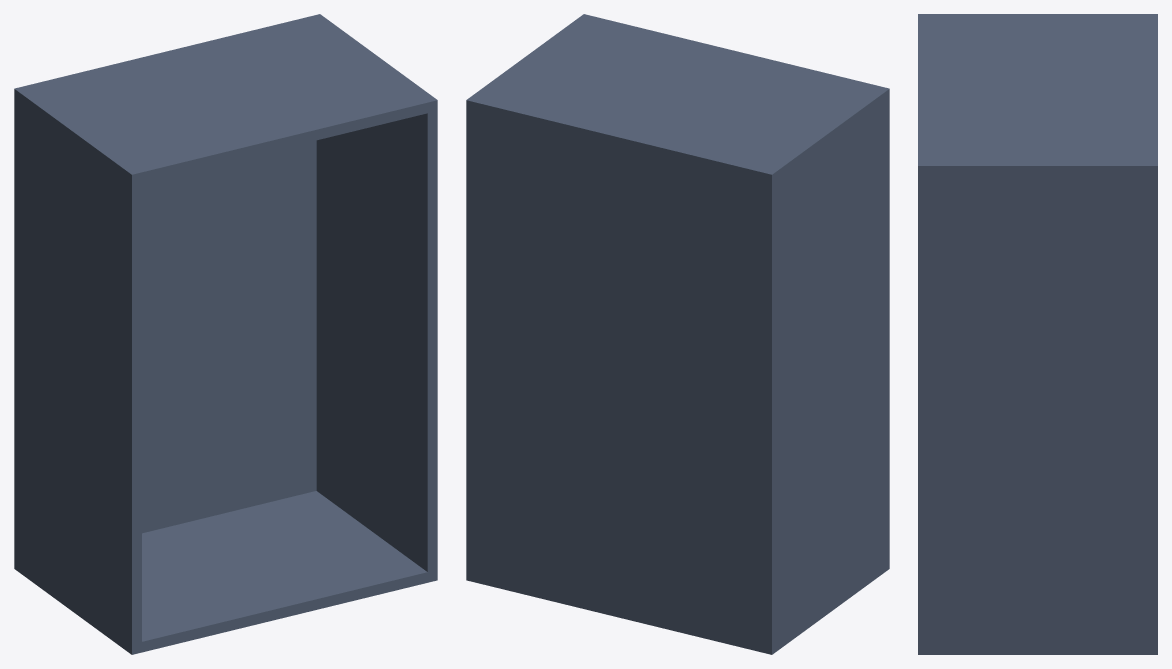
File: Kitchen1_C4_07.fbx
The picture shows the model from 3 angles, left to right: view 1: azimuth 30°, elevation 25°; view 2: azimuth 150°, elevation 25°; view 3: azimuth 270°, elevation 25°; orthographic projection.
Visible parts, largest first — view 1: Kitchen1_C4_07; view 2: Kitchen1_C4_07; view 3: Kitchen1_C4_07.
Part boxes in pixels (x1,y1,x2,y2): Kitchen1_C4_07: [14, 14, 437, 654]; Kitchen1_C4_07: [466, 14, 889, 654]; Kitchen1_C4_07: [918, 14, 1157, 654].
Bounding box in the file's own units: 60 × 90 × 40.
